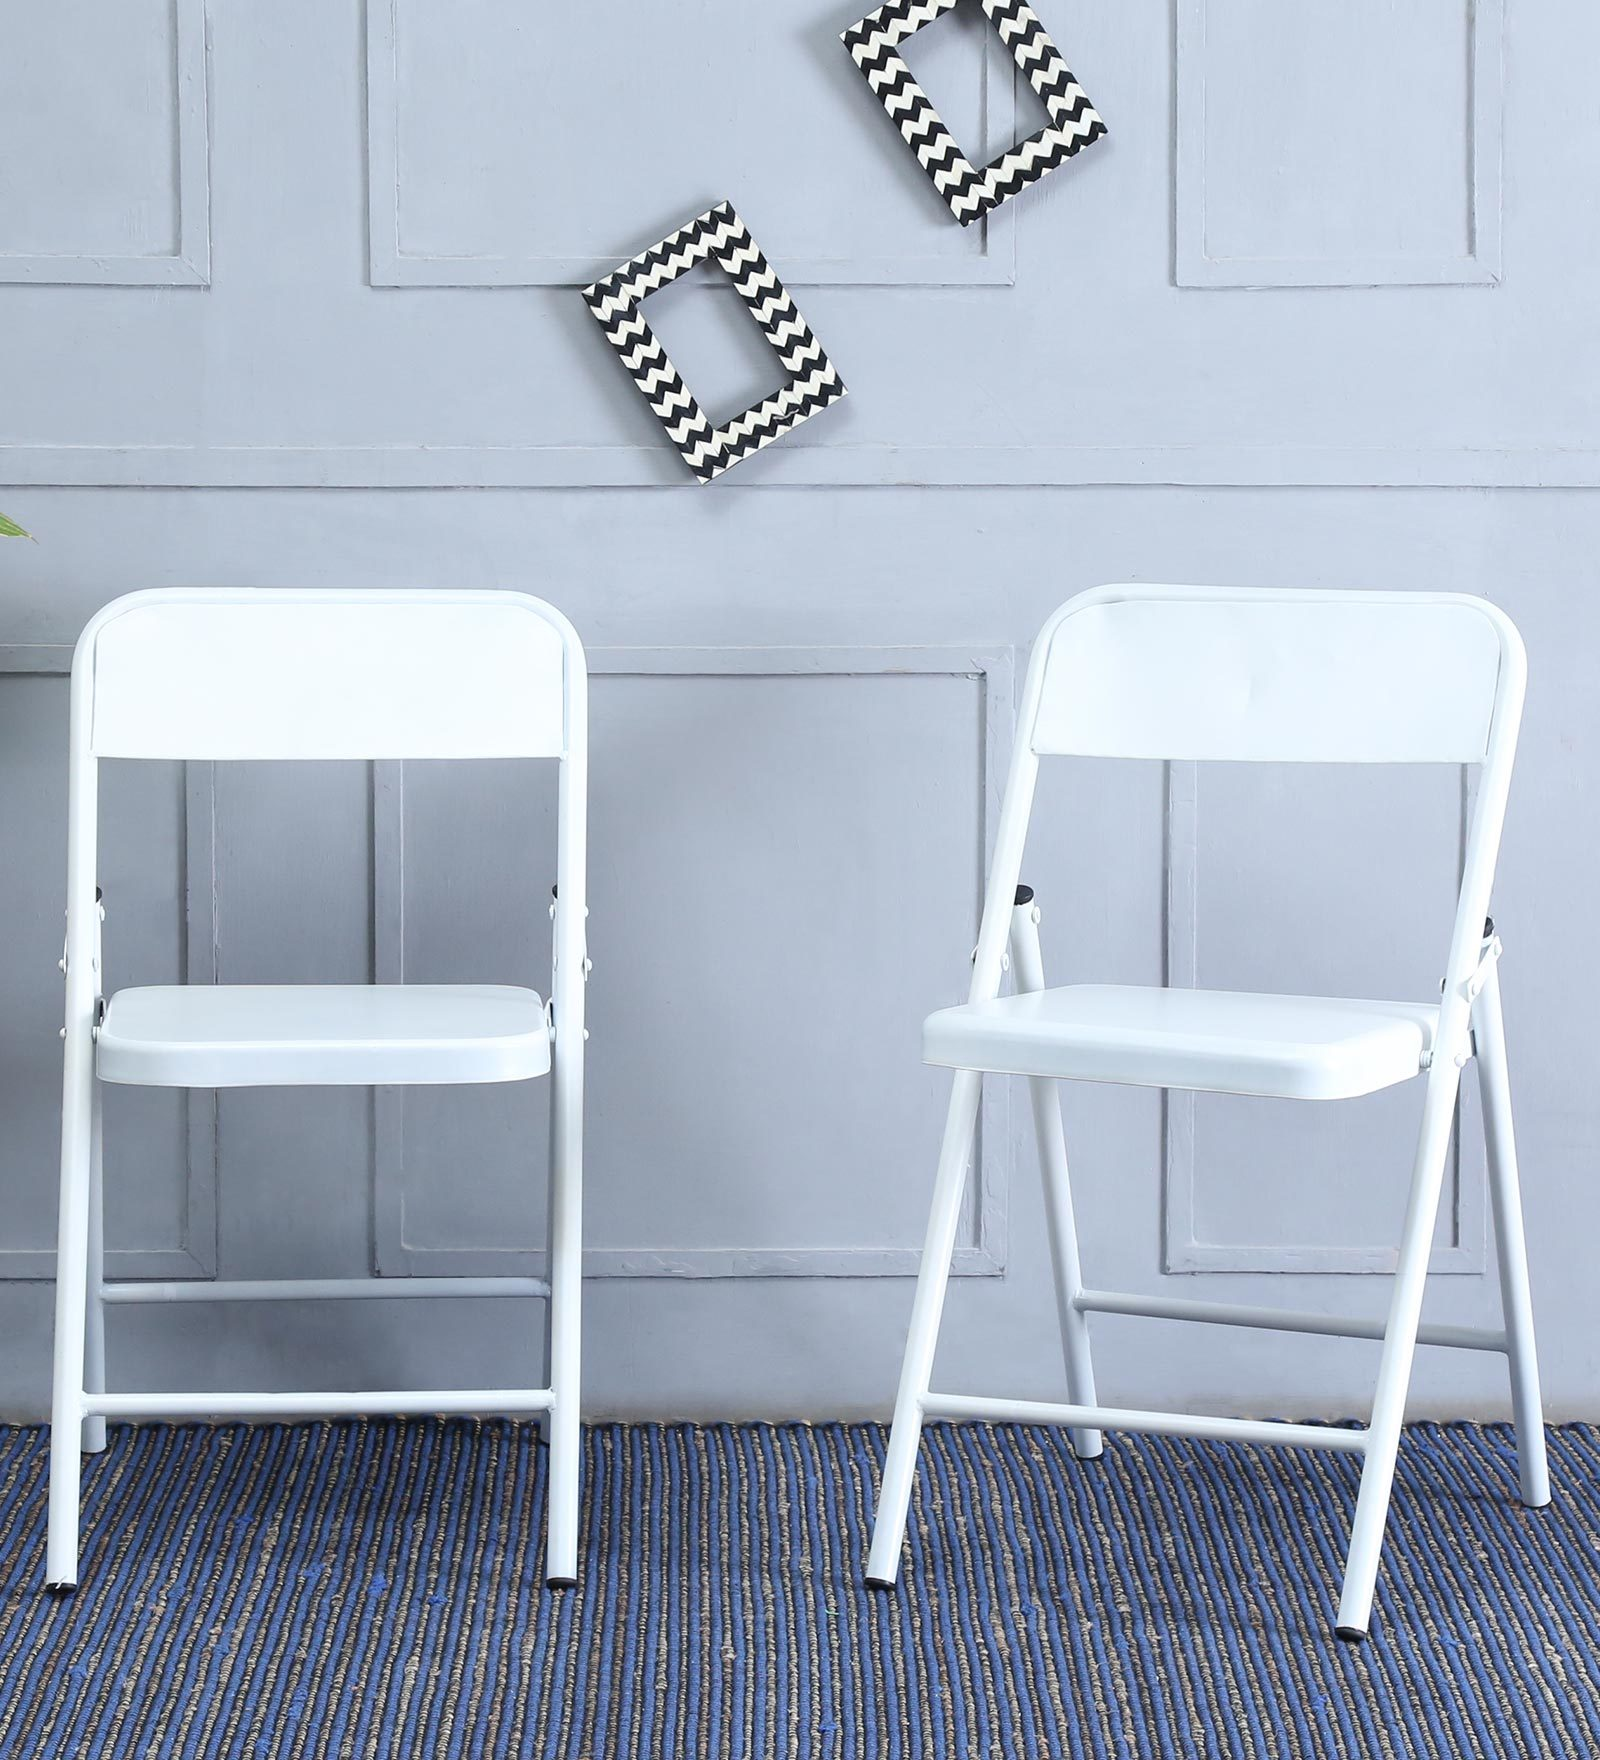Kell Folding Chair (Set of 2) in White Color by Bohemiana: (31, 550, 1588, 1703)
